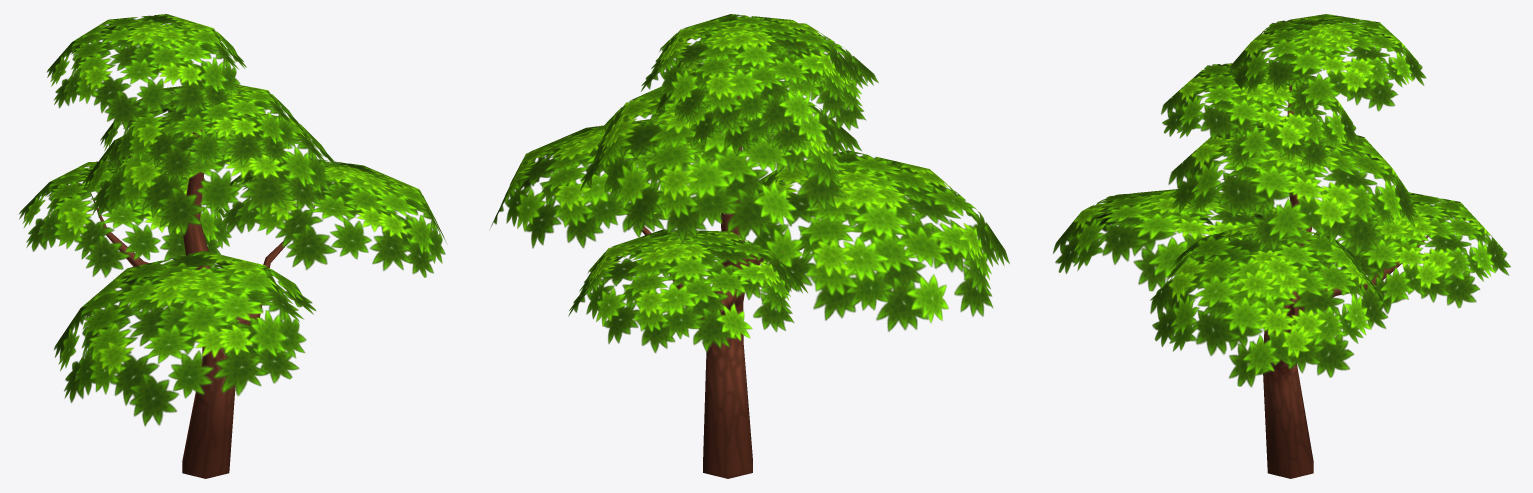
File: Tree4.glb
3 renders of one model, left to right at view 1: azimuth 30°, elevation 25°; view 2: azimuth 150°, elevation 25°; view 3: azimuth 270°, elevation 25°, orthographic. The views are drawn at different scales.
Parts seen in each view (by area): view 1: Tree_04a; view 2: Tree_04a; view 3: Tree_04a.
Boxes of the visible parts, x1,y1,x2,y2 form: Tree_04a: (19, 14, 446, 478); Tree_04a: (490, 14, 1009, 478); Tree_04a: (1053, 14, 1510, 478).
Size of the model in its own units: 122 by 119 by 123.
1 material, 1 textured.
